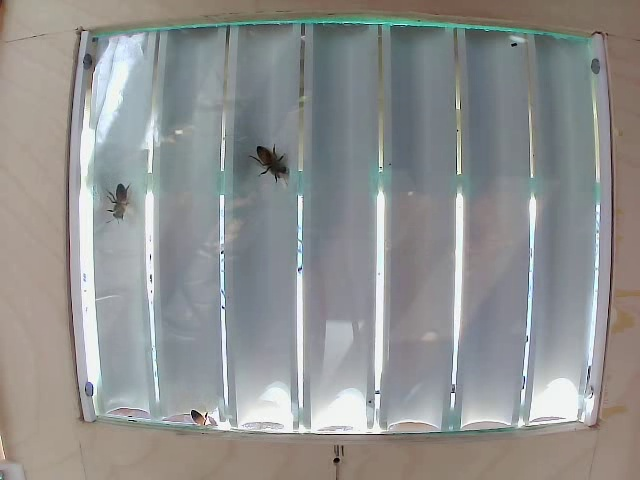bee: (243, 145, 289, 187), (107, 183, 142, 224)
